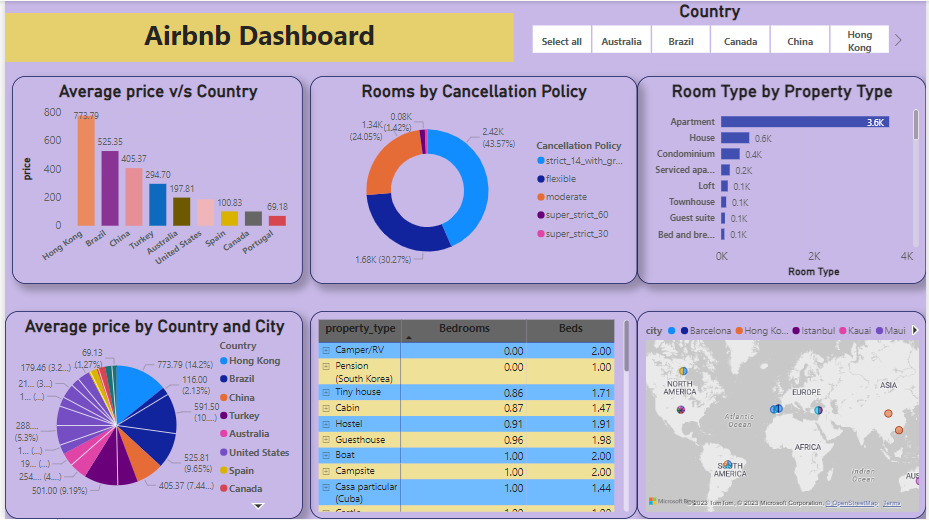

What the dashboard file says about the page in this screenshot:
{"tool":"powerbi","page":{"name":"Page 1","canvas":[1280,720],"ordinal":0},"visuals":[{"type":"columnChart","title":"Average  price v/s Country","fields":{"Category":["airbnb.country"],"Y":["Avg(airbnb.price)"]},"box":[9.7,104.2,404.5,289.1],"z":0},{"type":"pieChart","title":"Average price by Country and City","fields":{"Category":["airbnb.country"],"Y":["Avg(airbnb.price)"],"Series":["airbnb.city"]},"box":[0,430.9,414.2,289.1],"z":1000},{"type":"pivotTable","fields":{"Rows":["airbnb.property_type","airbnb.room_type"],"Values":["Avg(airbnb.total_bedrooms)","Avg(airbnb.total_beds)"]},"box":[423.9,430.9,454.5,289.1],"z":2000},{"type":"textbox","box":[0,16.7,707.5,68.1],"z":3000},{"type":"donutChart","fields":{"Category":["airbnb.cancellation_policy"],"Y":["CountNonNull(airbnb.room_type)"]},"box":[423.9,104.2,454.5,289.1],"z":4000},{"type":"slicer","title":"Country","fields":{"Values":["airbnb.country"]},"box":[707.5,0,544.9,72.3],"z":5000},{"type":"map","fields":{"Category":["airbnb.country"],"Series":["airbnb.city"]},"box":[878.5,430.9,401.7,289.1],"z":6000},{"type":"barChart","fields":{"Category":["airbnb.property_type"],"Y":["CountNonNull(airbnb.room_type)"]},"box":[878.5,104.2,401.7,289.1],"z":7000}]}

Visuals, with their boxes in screenshot pixels (x1, y1, x2, y2), scaled from the page's 1280x720 canvas onto the 929x520 screenshot:
"Average  price v/s Country" columnChart: crop(7, 75, 301, 284)
"Average price by Country and City" pieChart: crop(0, 311, 301, 519)
pivotTable - airbnb.property_type x airbnb.room_type: crop(308, 311, 638, 519)
textbox: crop(0, 12, 513, 61)
donutChart - airbnb.cancellation_policy x CountNonNull(airbnb.room_type): crop(308, 75, 638, 284)
"Country" slicer: crop(513, 0, 909, 52)
map - airbnb.country x airbnb.city: crop(638, 311, 928, 519)
barChart - airbnb.property_type x CountNonNull(airbnb.room_type): crop(638, 75, 928, 284)
